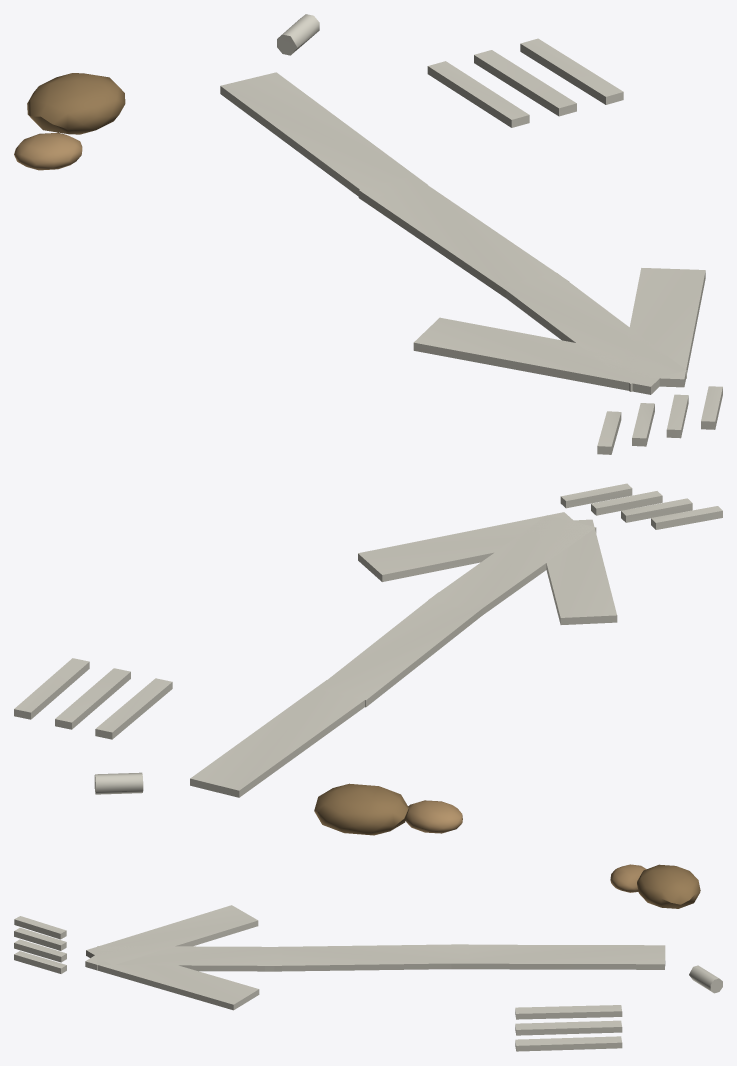
The model's file is chalk_turn_a_lod1.glb.
The picture shows the model from 3 angles, top to bottom: view 1: azimuth 30°, elevation 25°; view 2: azimuth 150°, elevation 25°; view 3: azimuth 270°, elevation 25°; orthographic projection. The views are drawn at different scales.
Visible parts, largest first — view 1: Surface.001; view 2: Surface.001; view 3: Surface.001.
Part boxes in pixels (x1=…): Surface.001: x1=14, y1=14, x2=722, y2=454; Surface.001: x1=14, y1=483, x2=722, y2=835; Surface.001: x1=14, y1=864, x2=722, y2=1051.
Bounding box in the file's own units: 3.37 × 0.3164 × 5.67.
